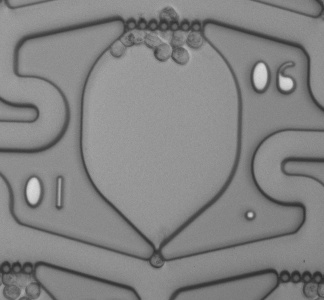AptNum: (246, 54, 302, 100)
Marker: (243, 206, 261, 224)
StNum: (20, 171, 73, 217)
